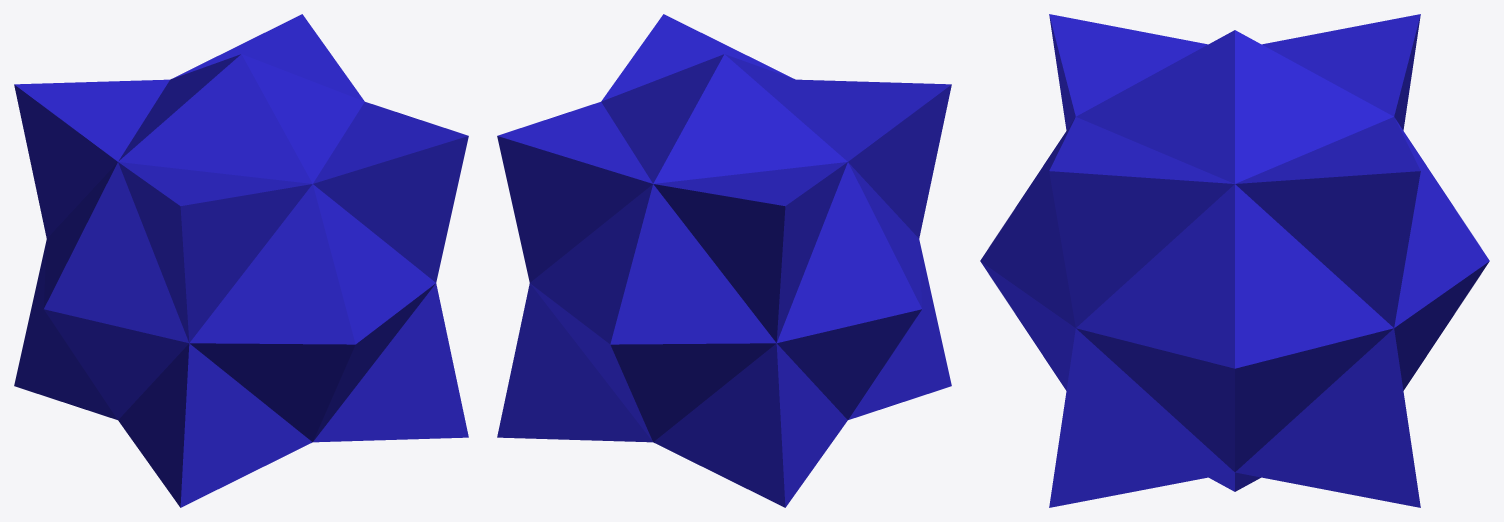
Rendered from mana_pickup.fbx.
3 renders of one model, left to right at view 1: azimuth 30°, elevation 25°; view 2: azimuth 150°, elevation 25°; view 3: azimuth 270°, elevation 25°, orthographic. The views are drawn at different scales.
Parts seen in each view (by area): view 1: mana_pickup; view 2: mana_pickup; view 3: mana_pickup.
Part boxes in pixels (<box>): mana_pickup: <box>14,14,468,507</box>; mana_pickup: <box>497,14,951,507</box>; mana_pickup: <box>980,14,1489,507</box>.
Bounding box in the file's own units: 127 × 127 × 127.
